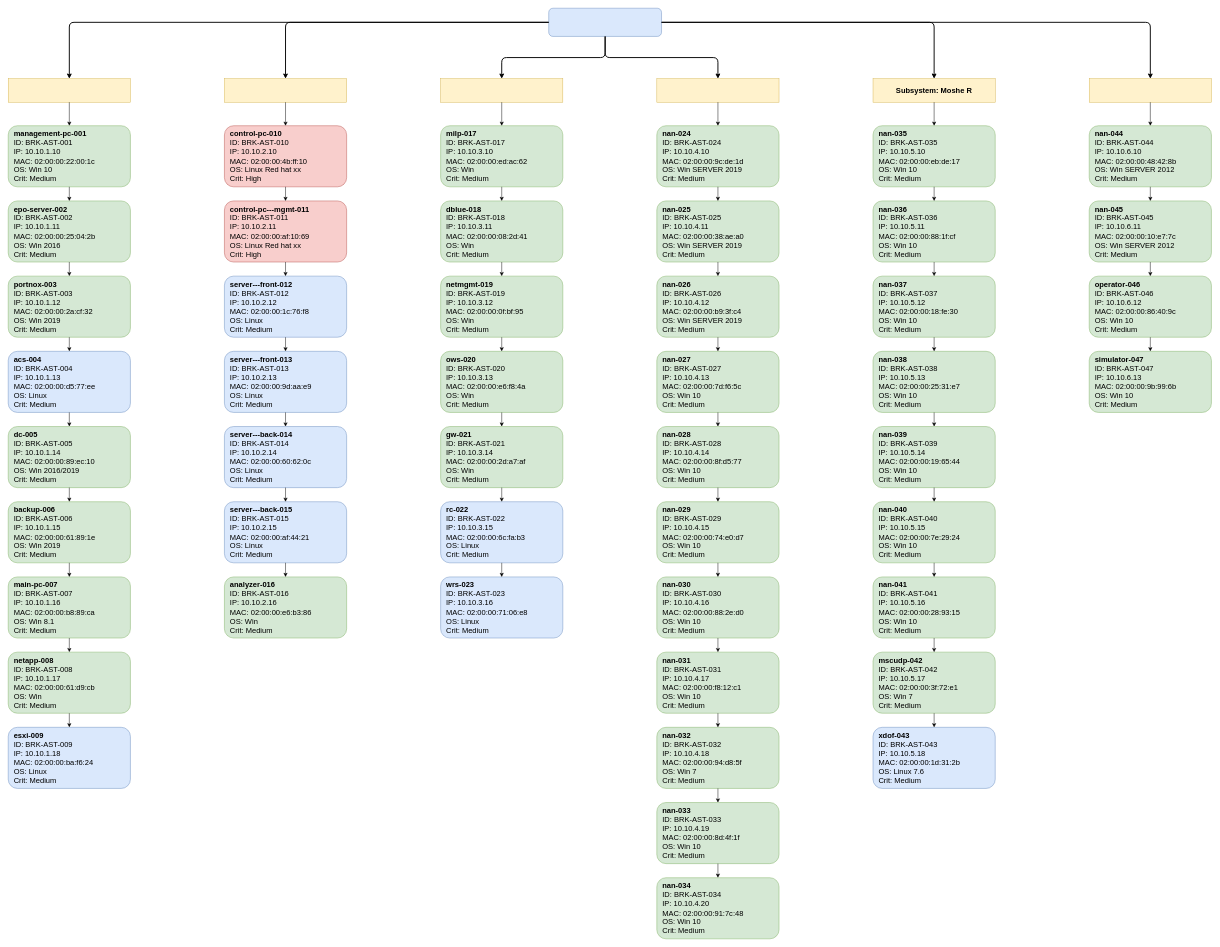
Some shapes in this 1220 by 947 pixel diagram are drawn without their labels. Each missing label, with the centre of its shape:
"Brakim System Under Test" goes at (x=605, y=22).
"Subsystem: AG" goes at (x=69, y=90).
"Subsystem: Ariela" goes at (x=1150, y=90).
"Subsystem: Dror S" goes at (x=501, y=90).
"Subsystem: OG" goes at (x=285, y=90).
"Subsystem: Yoram M" goes at (x=717, y=90).
